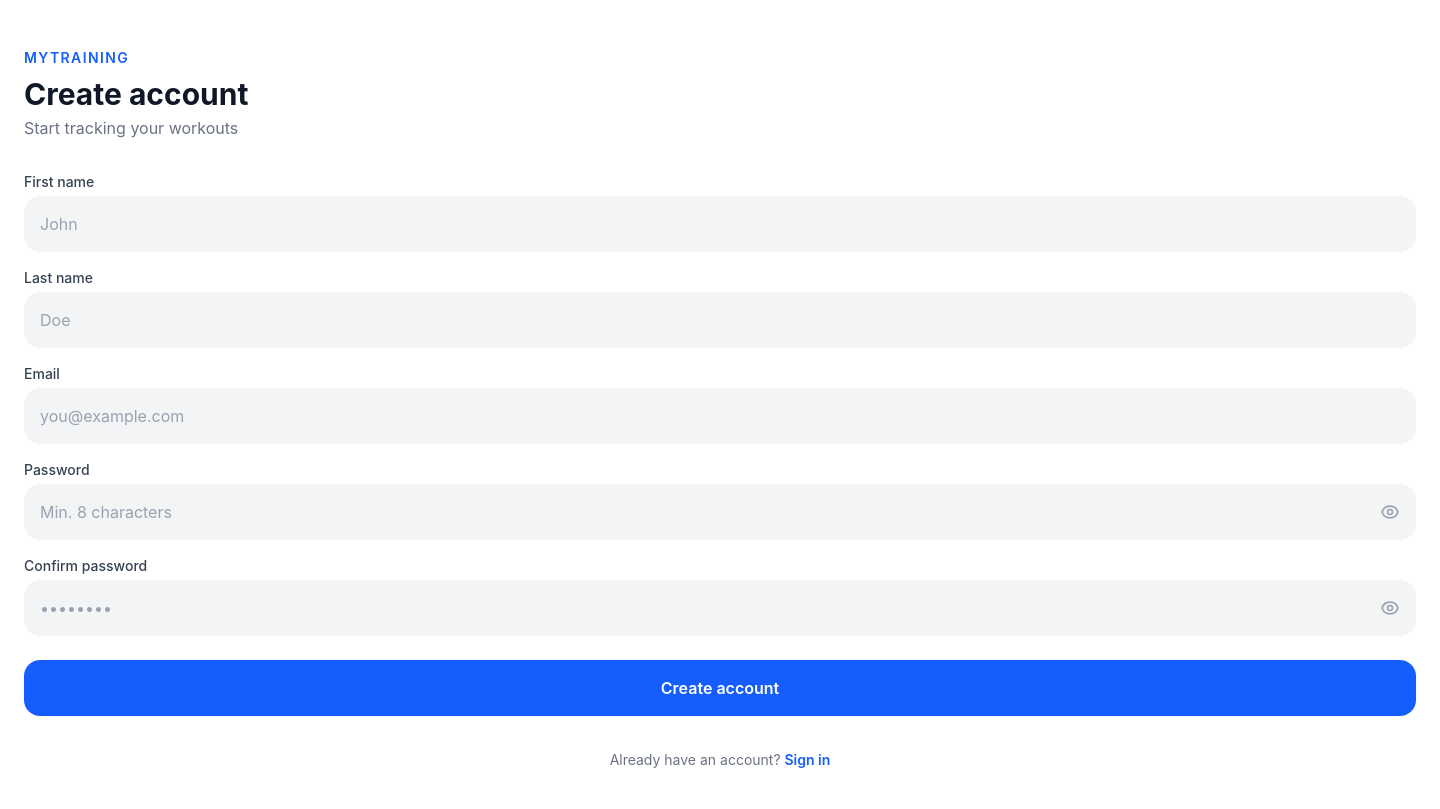
Test case: SignUpPage › shows an error when passwords do not match
Type "Jane" into the field with placeholder "John" at (720, 224), box top-left (24, 196), bottom-right (1416, 252)
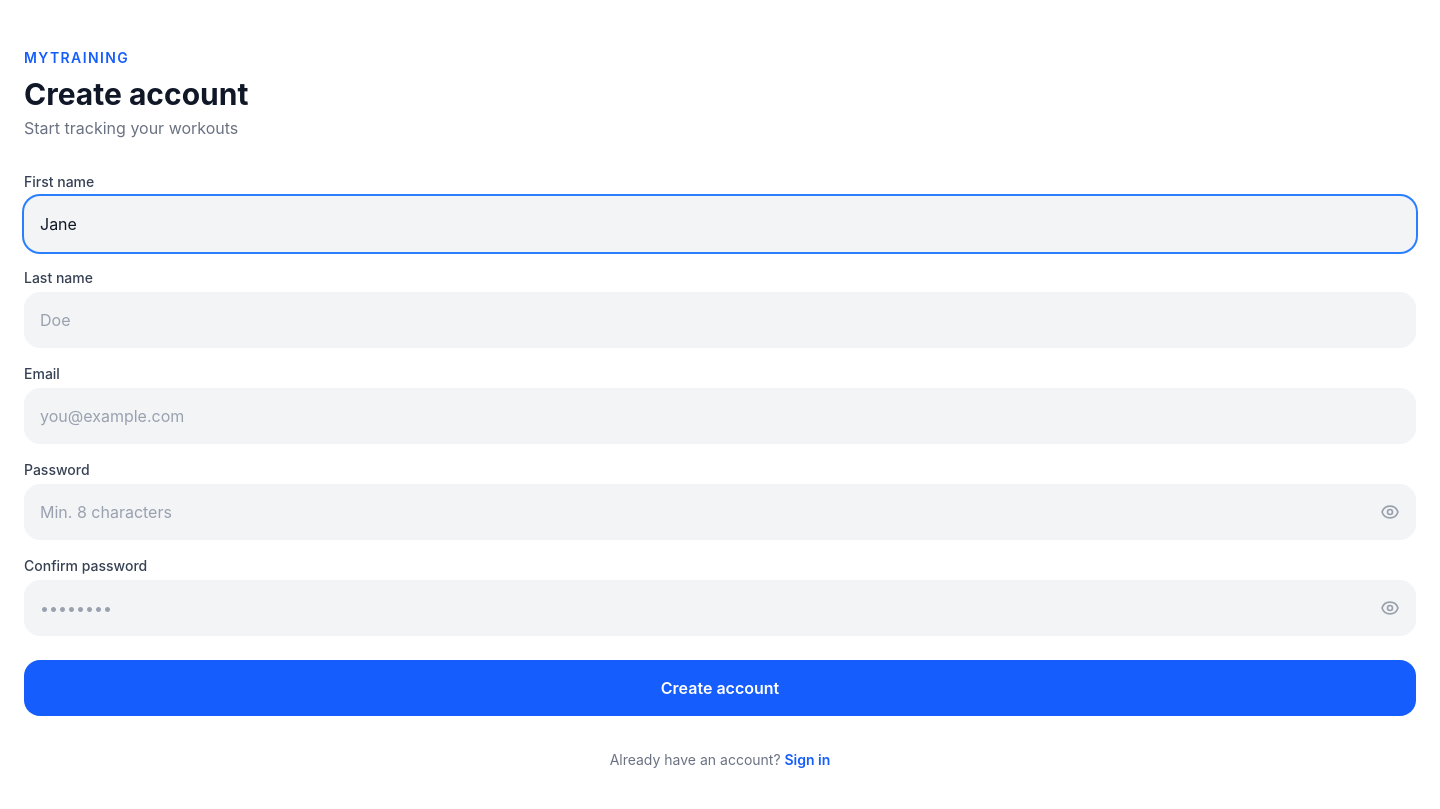
Type "Smith" into the field with placeholder "Doe" at (720, 320), box top-left (24, 292), bottom-right (1416, 348)
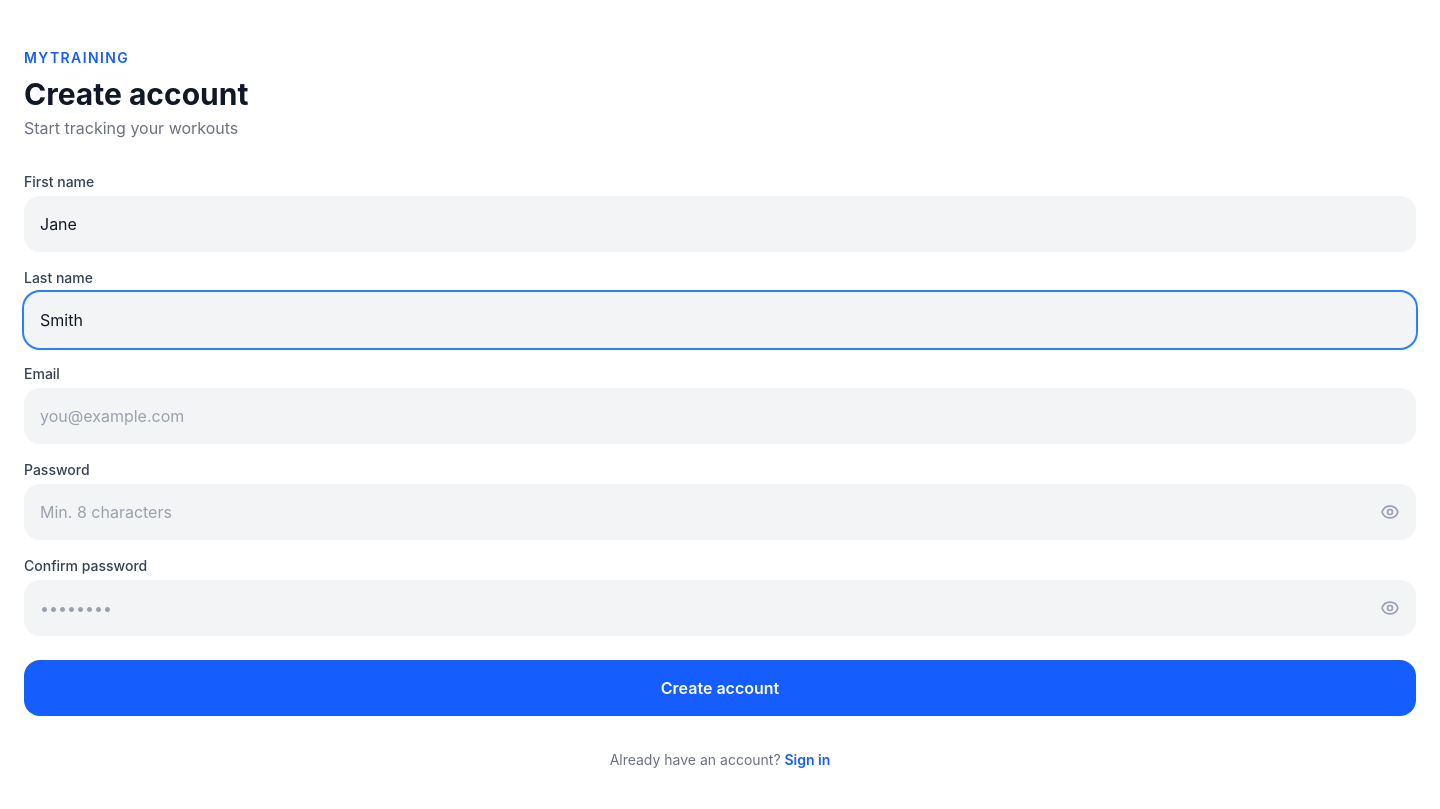
Type "jane@test.com" into the field with placeholder "you@example.com" at (720, 416), box top-left (24, 388), bottom-right (1416, 444)
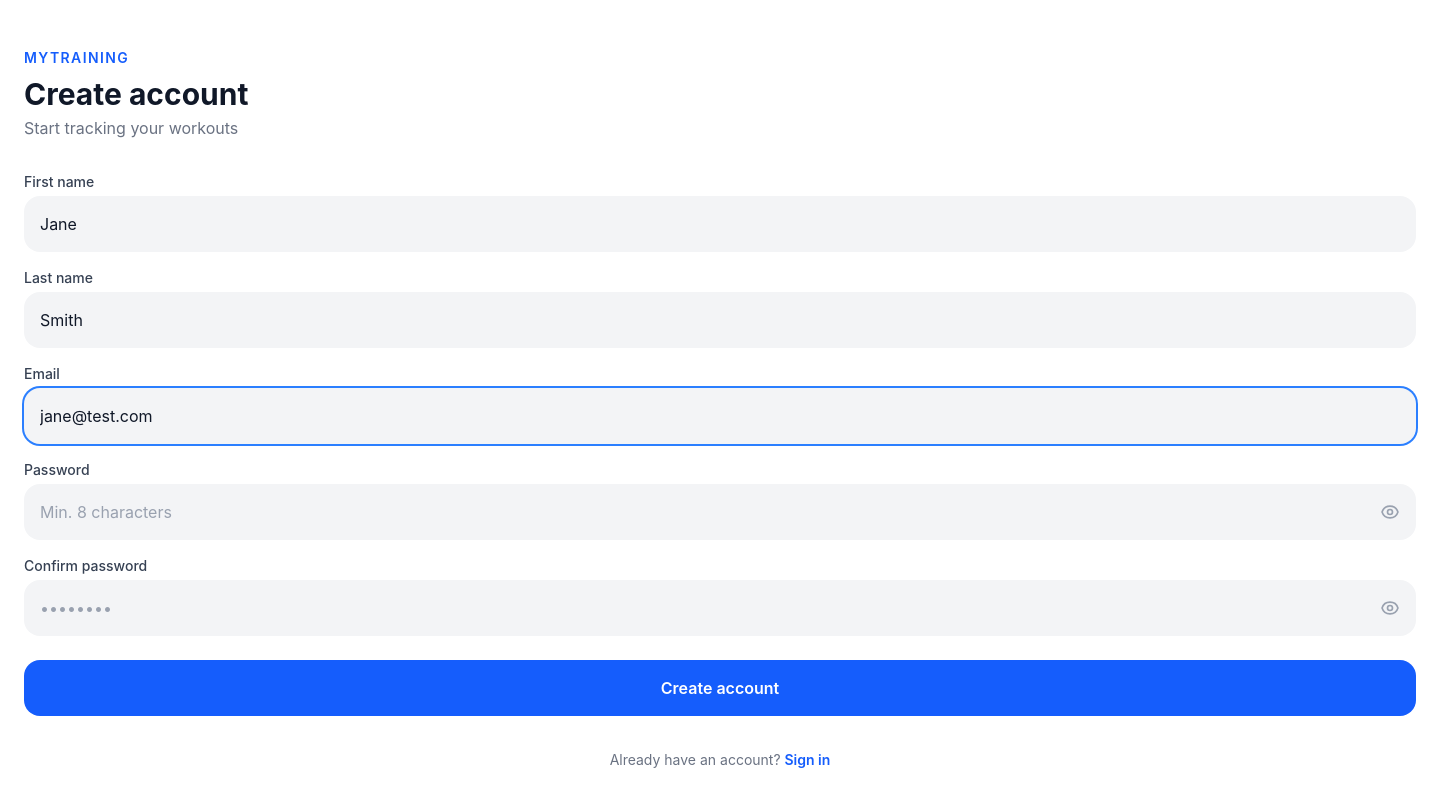
Type "Secure@57!" into the password field with placeholder "Min. 8 characters" at (720, 512), box top-left (24, 484), bottom-right (1416, 540)
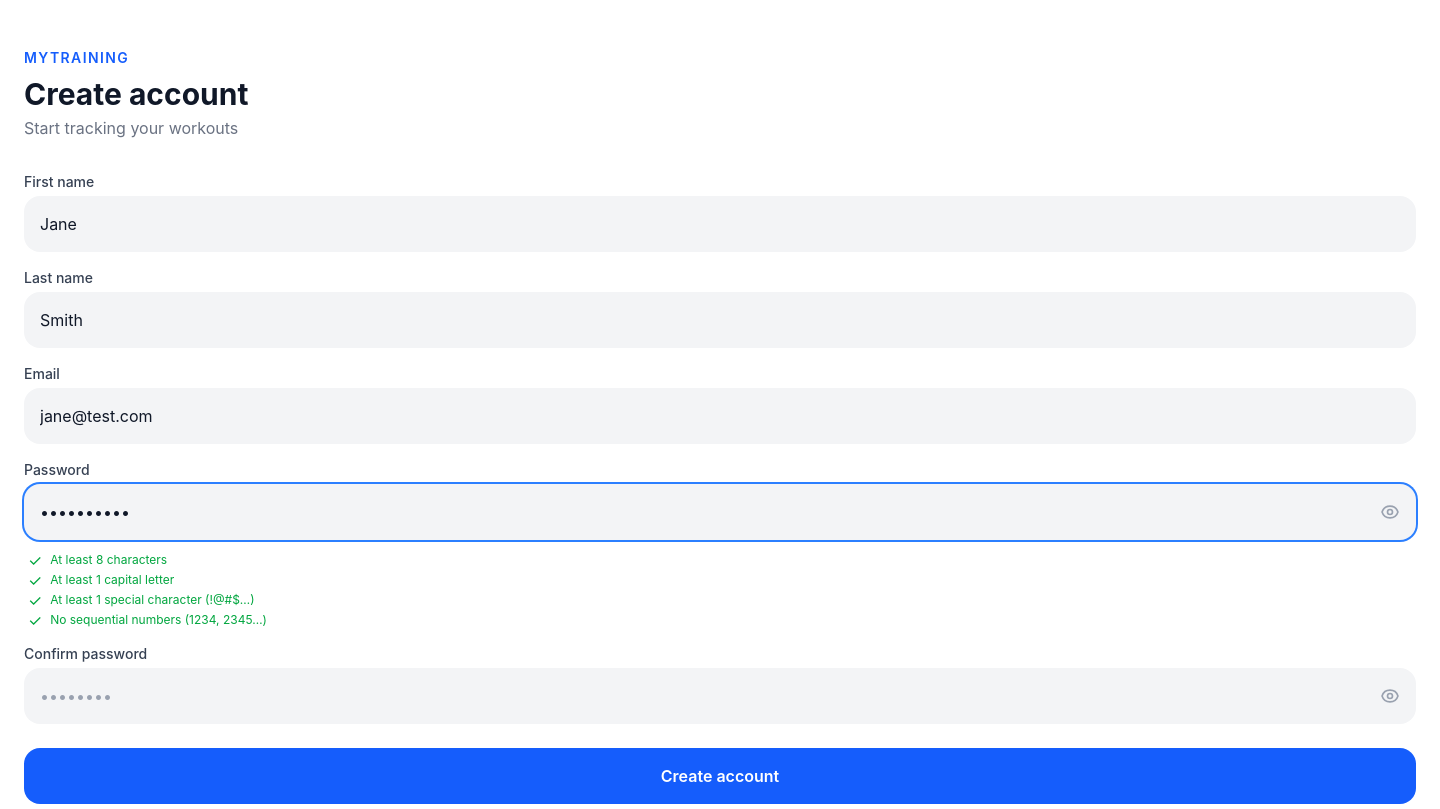
Type "Different@57!" into the password field with placeholder "••••••••" at (720, 696), box top-left (24, 668), bottom-right (1416, 724)
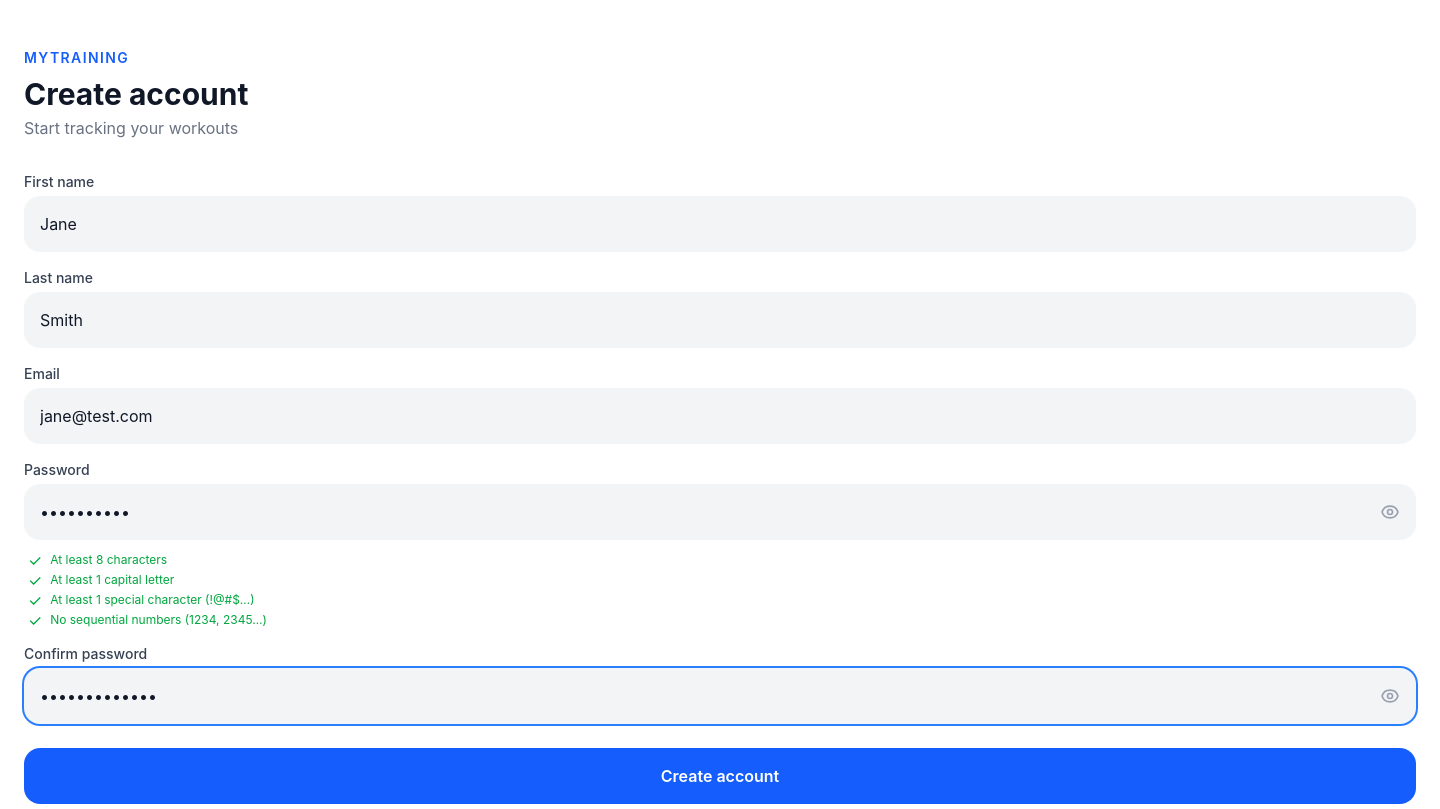
Click the button "Create account" at (720, 776), box top-left (24, 748), bottom-right (1416, 804)
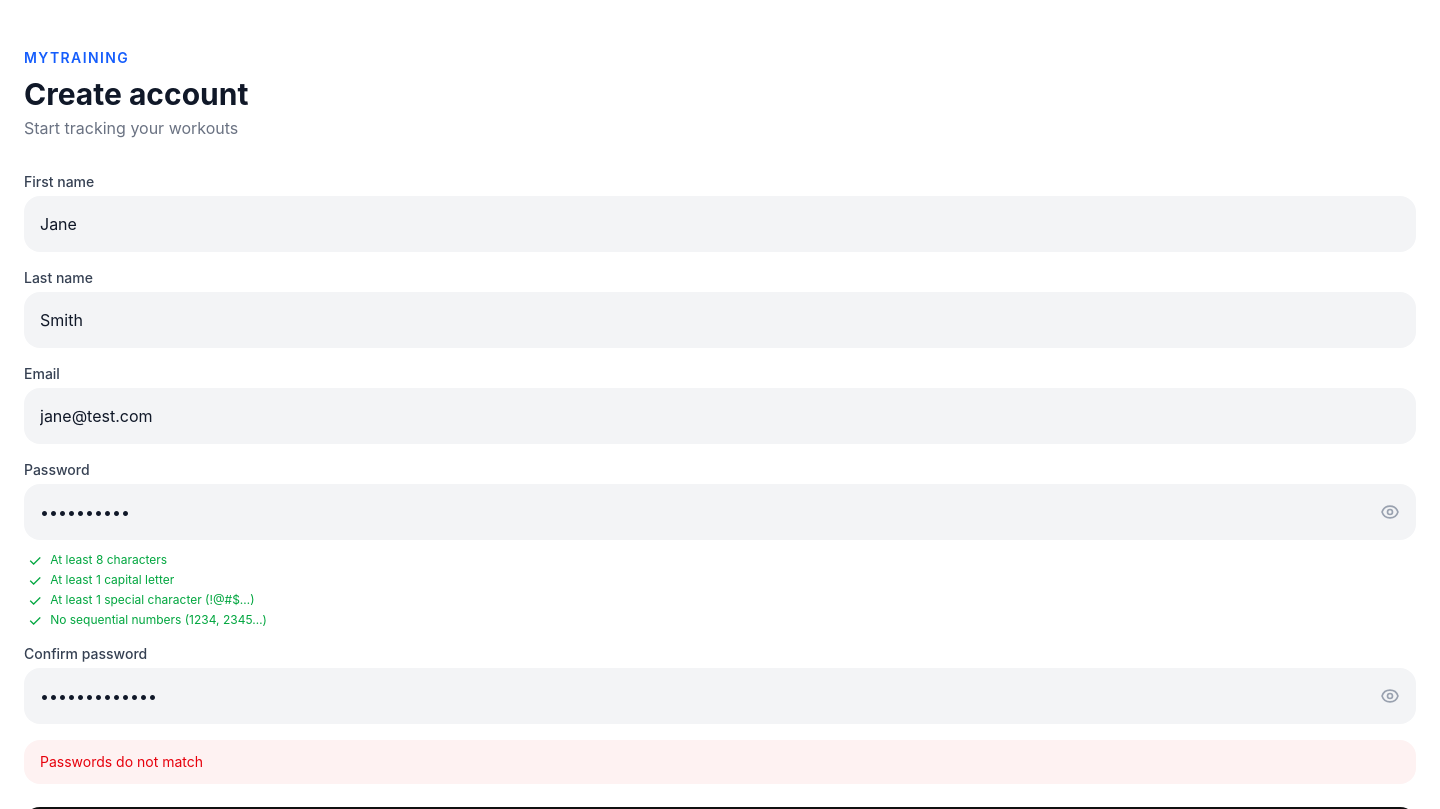
Expected: the text "Passwords do not match" is shown, top-left (24, 740), bottom-right (1416, 784)
